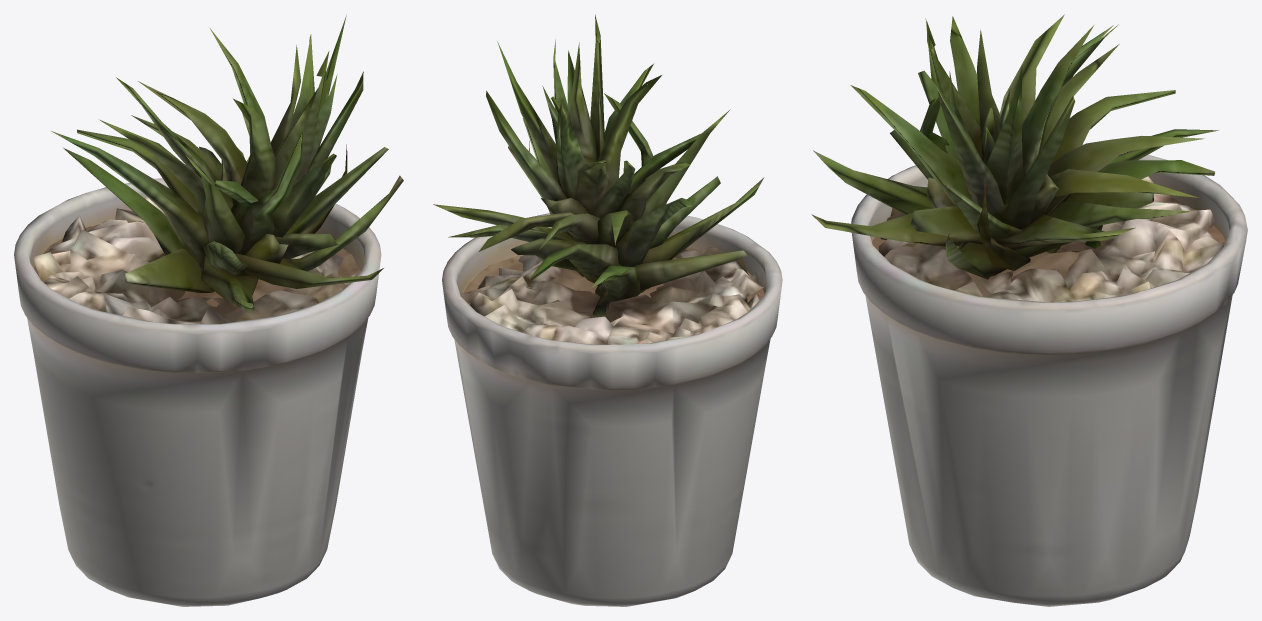
Rendered from plant-succulent.glb.
The picture shows the model from 3 angles, left to right: view 1: azimuth 30°, elevation 25°; view 2: azimuth 150°, elevation 25°; view 3: azimuth 270°, elevation 25°; orthographic projection. The views are drawn at different scales.
Visible parts, largest first — view 1: potted_plant_04_pot, potted_plant_04_plant, potted_plant_04_ground, potted_plant_04_dirt; view 2: potted_plant_04_pot, potted_plant_04_plant, potted_plant_04_ground, potted_plant_04_dirt; view 3: potted_plant_04_pot, potted_plant_04_plant, potted_plant_04_ground, potted_plant_04_dirt.
Boxes of the visible parts, x1,y1,x2,y2 form: potted_plant_04_pot: (14,178,381,606); potted_plant_04_plant: (51,15,403,311); potted_plant_04_ground: (33,196,356,323); potted_plant_04_dirt: (34,224,361,306); potted_plant_04_pot: (442,213,782,606); potted_plant_04_plant: (433,14,764,315); potted_plant_04_ground: (461,247,764,344); potted_plant_04_dirt: (460,247,764,304); potted_plant_04_pot: (851,144,1247,606); potted_plant_04_plant: (811,14,1218,279); potted_plant_04_ground: (878,176,1224,302); potted_plant_04_dirt: (872,208,1225,296).
Bounding box in the file's own units: 0.1672 × 0.2671 × 0.1843.
1 material, 1 textured.
